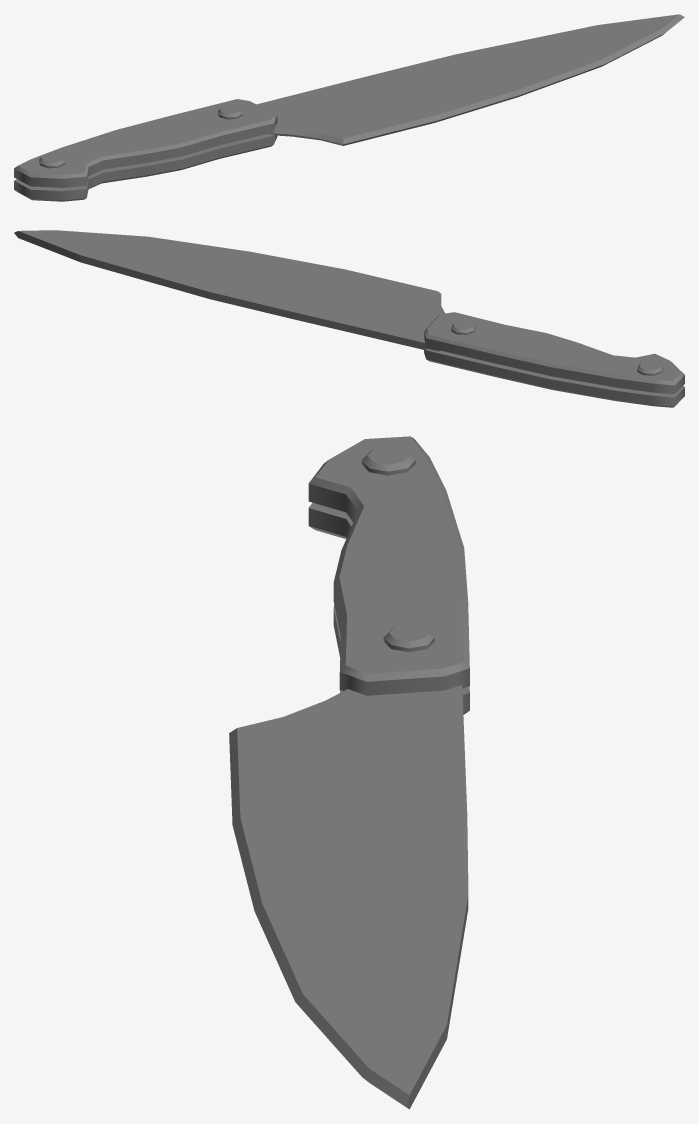
The model's file is Knife_Mesh_vc.fbx.
3 renders of one model, top to bottom at view 1: azimuth 30°, elevation 25°; view 2: azimuth 150°, elevation 25°; view 3: azimuth 270°, elevation 25°, orthographic. The views are drawn at different scales.
Parts seen in each view (by area): view 1: Knife_vc1; view 2: Knife_vc1; view 3: Knife_vc1.
Part boxes in pixels (x1,y1,x2,y2): Knife_vc1: (14, 14, 684, 201); Knife_vc1: (14, 230, 684, 407); Knife_vc1: (229, 436, 469, 1109).
Size of the model in its own units: 775 by 39.3 by 122.
1 material, 1 textured.
